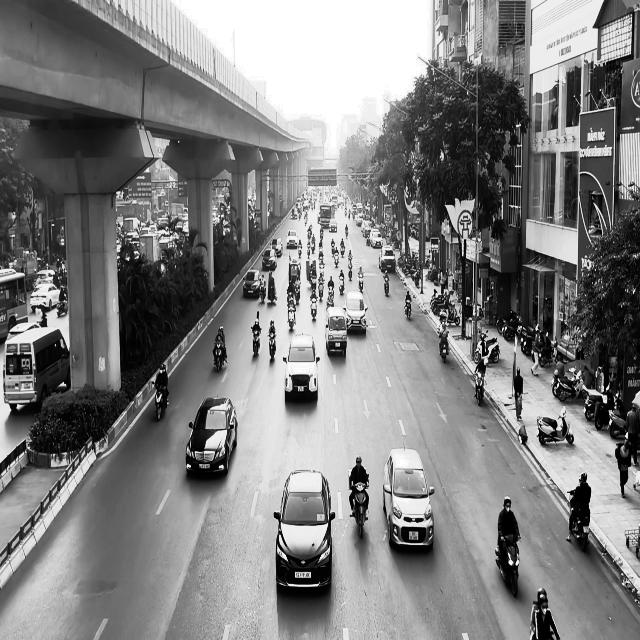bus: (0, 267, 29, 342)
car: (274, 469, 336, 590), (383, 447, 435, 550), (186, 396, 238, 476), (283, 332, 320, 400), (325, 306, 348, 358), (343, 291, 368, 334), (243, 269, 261, 298)
motorbike: (496, 533, 522, 597), (537, 405, 574, 446), (567, 491, 591, 551), (349, 478, 370, 538), (153, 381, 169, 421), (474, 370, 486, 406), (213, 342, 227, 372), (438, 331, 450, 362), (252, 327, 262, 356), (268, 331, 277, 361), (404, 298, 412, 320), (384, 277, 389, 296)
